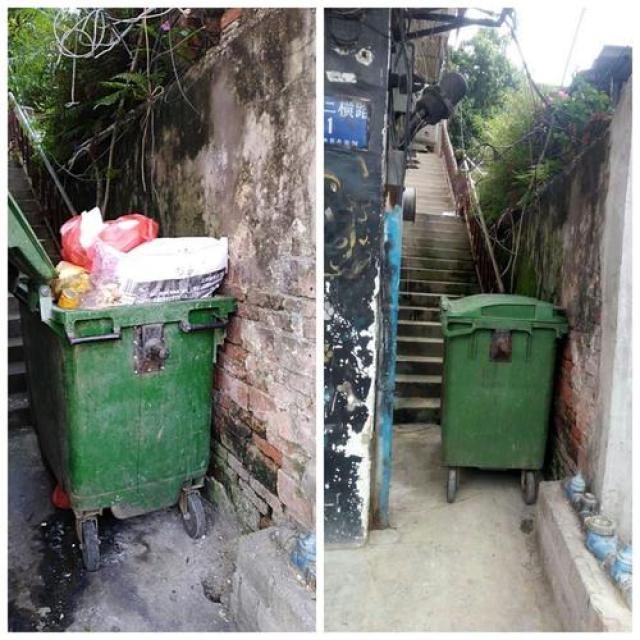garbage_bin: (438, 291, 567, 468)
overflow: (7, 205, 235, 508)
